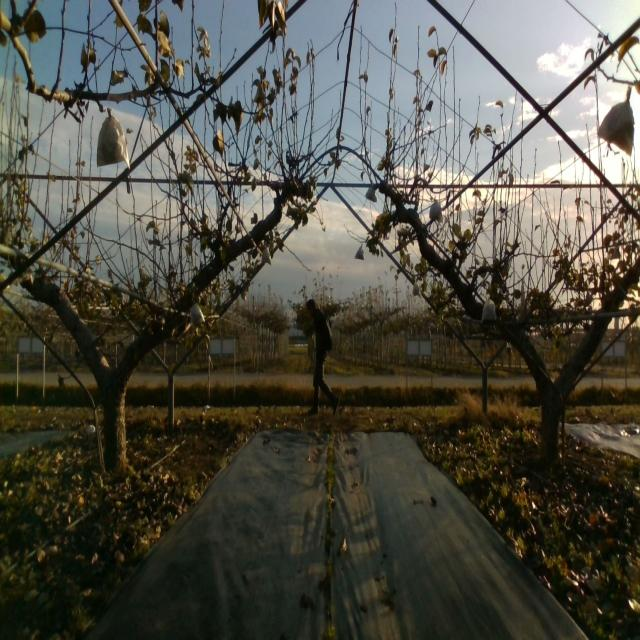pearbags: (306, 298, 339, 418), (596, 85, 634, 155), (96, 111, 130, 168), (189, 301, 205, 327), (482, 296, 497, 321), (429, 198, 443, 222), (365, 185, 377, 203)
